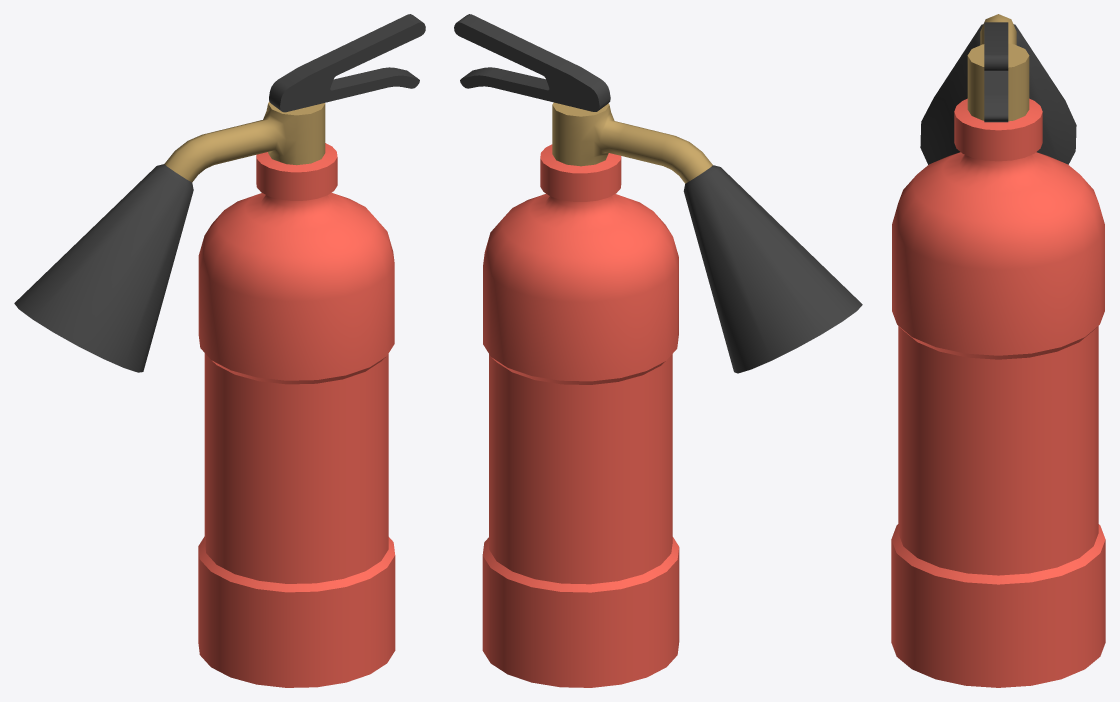
The model's file is Fire extinguisher.fbx.
3 views of the same model, side by side, from view 1: azimuth 30°, elevation 25°; view 2: azimuth 150°, elevation 25°; view 3: azimuth 270°, elevation 25° (orthographic). The views are drawn at different scales.
Parts seen in each view (by area): view 1: Fire extinguisher; view 2: Fire extinguisher; view 3: Fire extinguisher.
Boxes of the visible parts, x1,y1,x2,y2 form: Fire extinguisher: (14, 14, 425, 687); Fire extinguisher: (454, 14, 862, 687); Fire extinguisher: (891, 14, 1105, 687).
Size of the model in its own units: 0.8474 by 1.24 by 0.3698.
